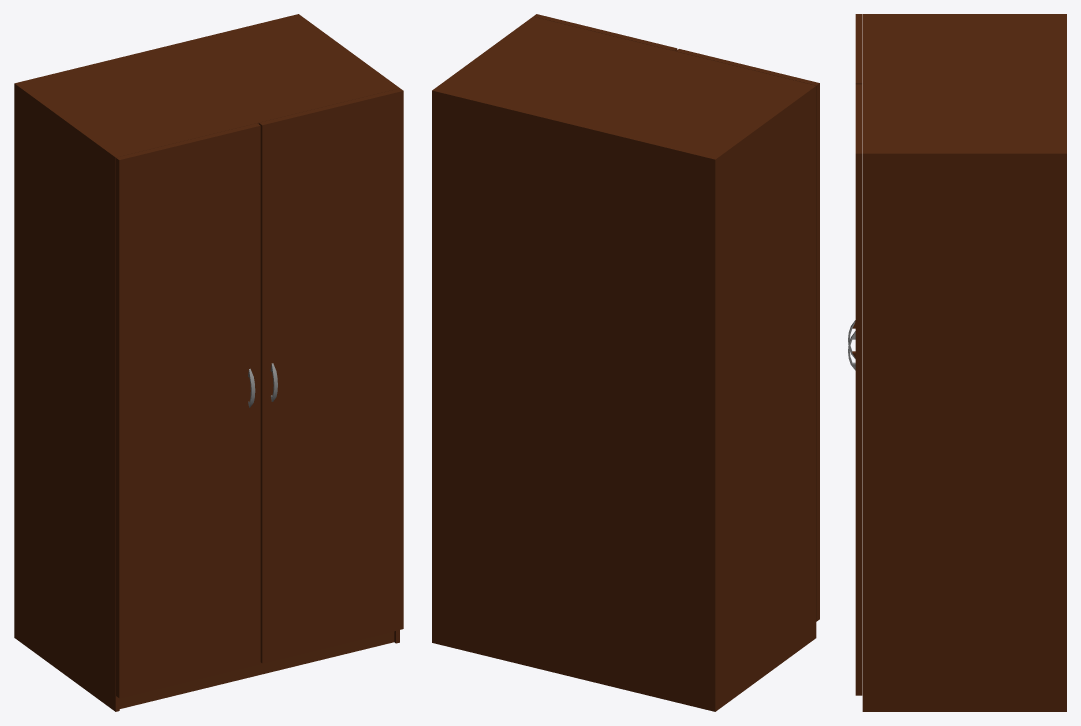
The model's file is animated_wardobe_closet_office_low_poly.glb.
3 views of the same model, side by side, from view 1: azimuth 30°, elevation 25°; view 2: azimuth 150°, elevation 25°; view 3: azimuth 270°, elevation 25° (orthographic).
Parts seen in each view (by area): view 1: closet, L_door, R_door; view 2: closet, L_door; view 3: closet, R_door, L_door.
Boxes of the visible parts, x1=… form: closet: x1=14, y1=14, x2=399, y2=711; L_door: x1=116, y1=123, x2=260, y2=698; R_door: x1=259, y1=88, x2=403, y2=663; closet: x1=432, y1=16, x2=816, y2=711; L_door: x1=676, y1=49, x2=819, y2=621; closet: x1=862, y1=14, x2=1066, y2=711; R_door: x1=848, y1=84, x2=862, y2=695; L_door: x1=848, y1=14, x2=862, y2=358.
Size of the model in its own units: 254 by 473 by 168.
